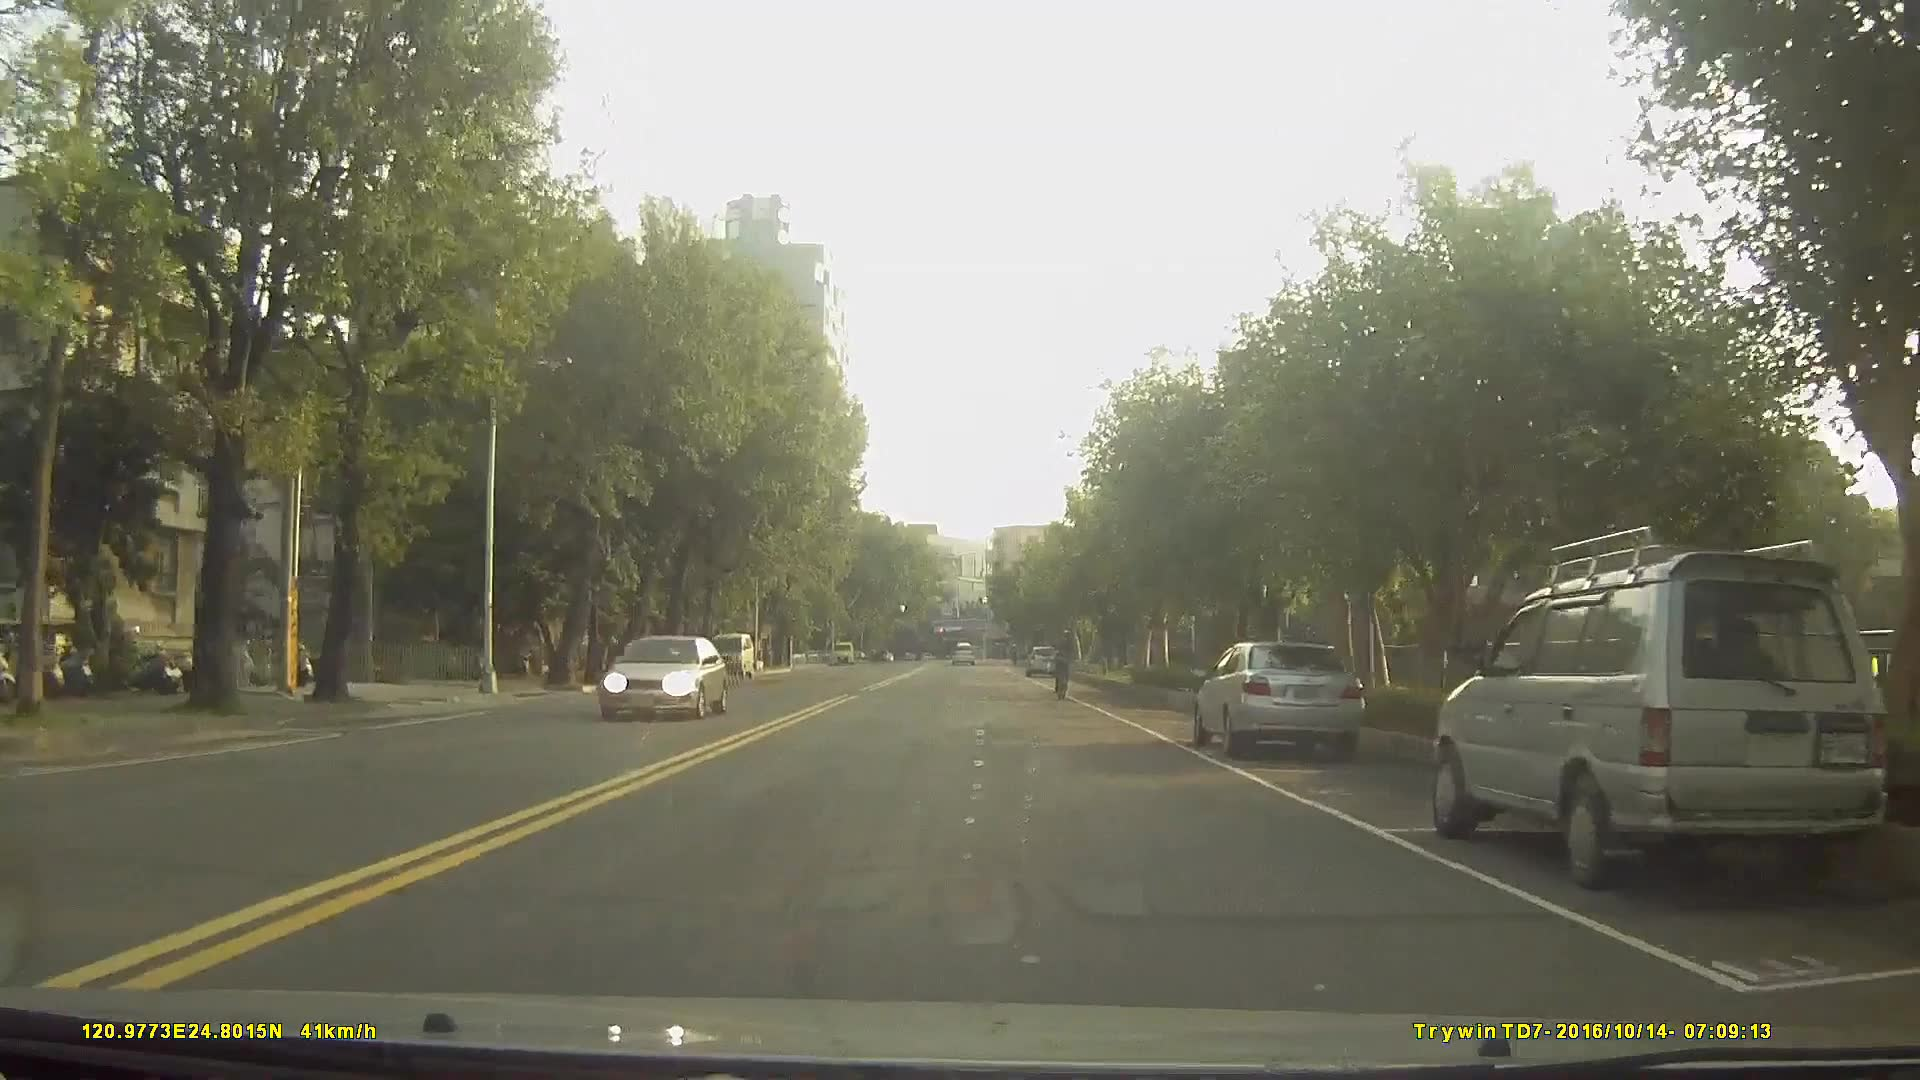rider: (1054, 620, 1079, 703)
vehicle: (1430, 552, 1893, 893), (1191, 636, 1365, 753), (597, 633, 730, 721), (621, 637, 685, 687), (704, 628, 754, 678), (1023, 640, 1060, 677), (948, 637, 976, 666)
